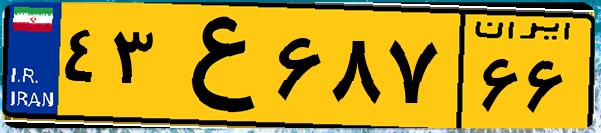3: (110, 28, 158, 98)
4: (57, 26, 110, 100)
6: (270, 28, 330, 110), (475, 38, 525, 113), (525, 38, 570, 115)
7: (385, 28, 445, 110)
8: (330, 28, 385, 110)
ع: (158, 12, 270, 120)
